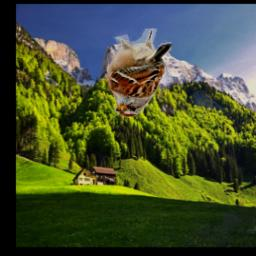Sparrow: (106, 30, 173, 118)
